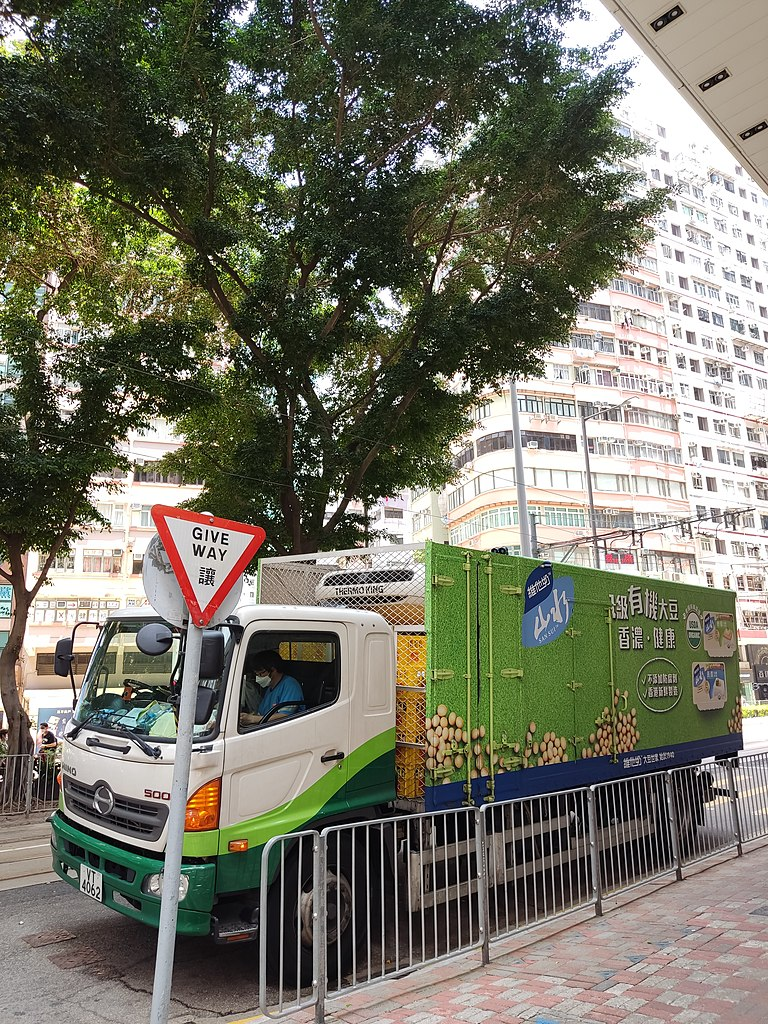Give Way: (143, 508, 267, 620)
